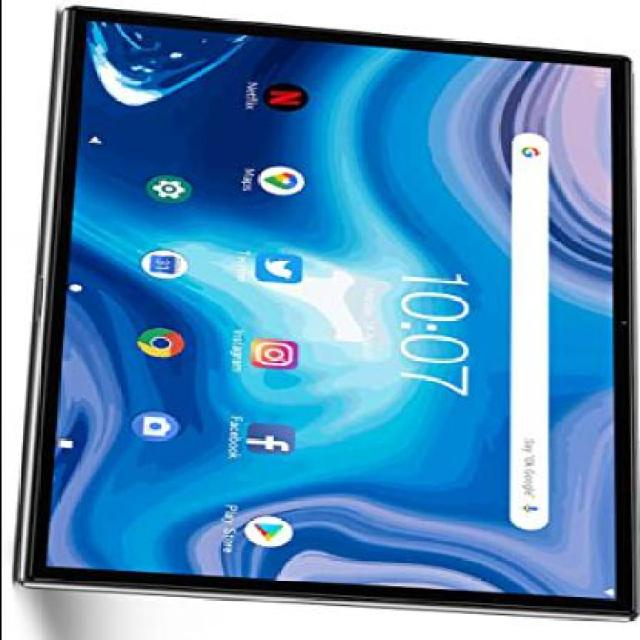tablet: (12, 5, 640, 626)
